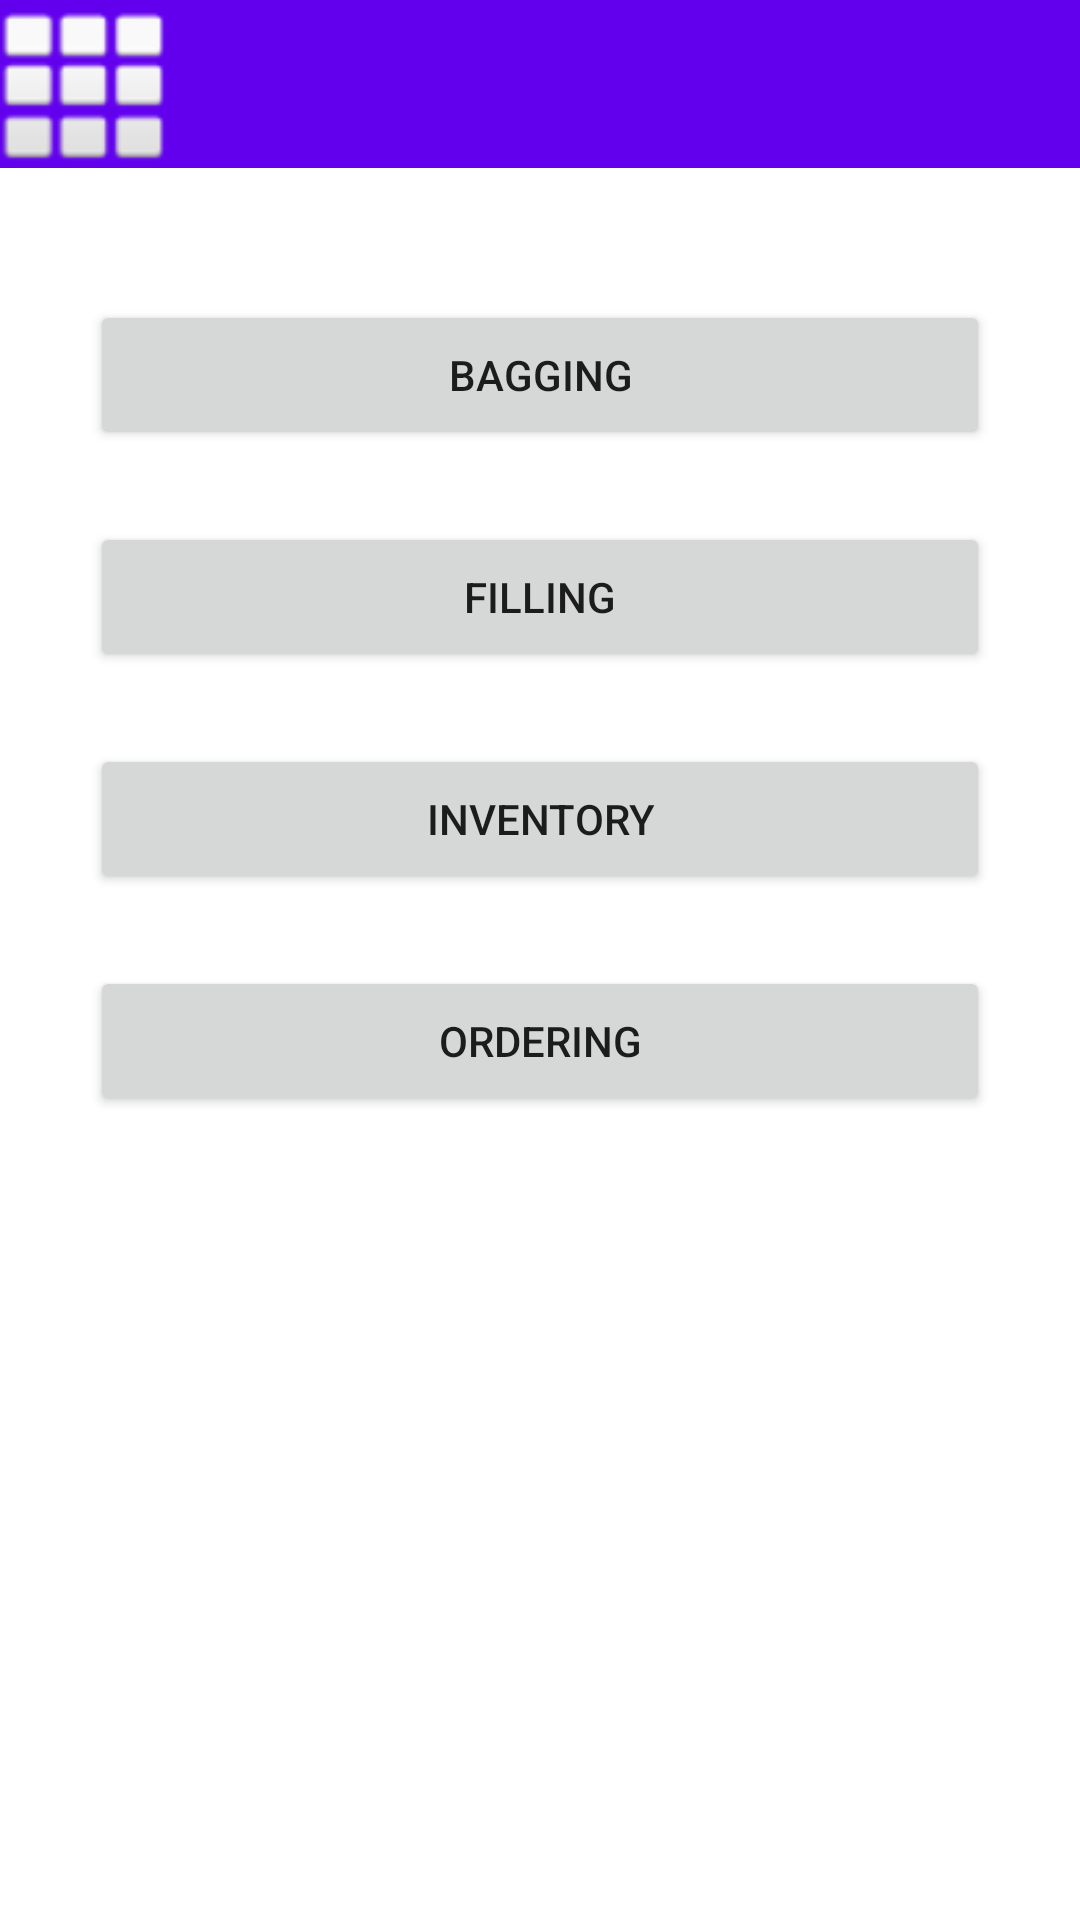

Locate icon controls on the screen. Image size 1080 x 1920, boxes as (x1=x1, y1=y1, x2=x2, y2=y2).
dialer: (x1=2, y1=13, x2=164, y2=159)
